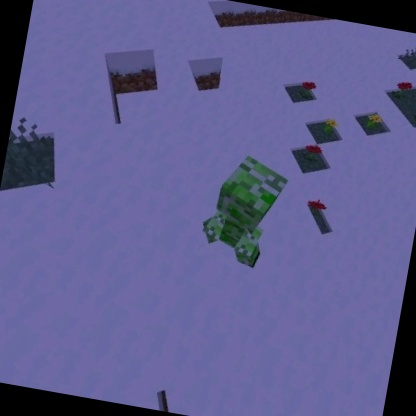creeper: (197, 147, 294, 275)
